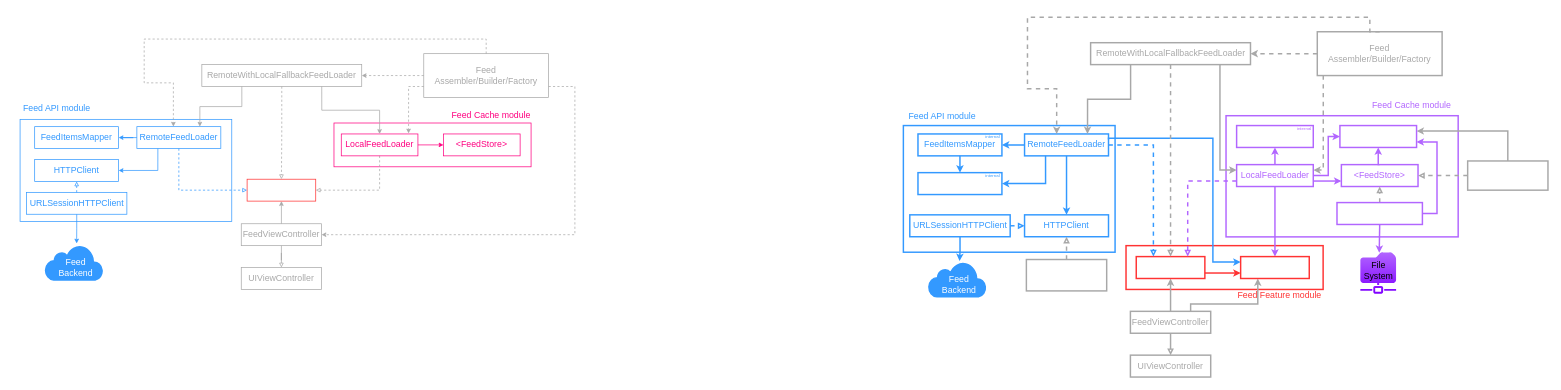
This 1561x390 diagram has some shape labels left out. The box of each missing label's shape, as (x1, y1, x2, y2) in pixels:
<Feed Feature>: (246, 178, 316, 201)
<FeedLoader>: (1135, 256, 1205, 279)
AnyFeedStore Implementation: (1467, 160, 1548, 191)
AnyHTTPClient Implementation: (1025, 258, 1107, 291)
CodableFeedStore: (1336, 201, 1423, 225)
FeedCachePolicy: (1236, 124, 1314, 148)
FeedImage: (1240, 256, 1310, 279)
LocalFeedImage: (1339, 124, 1417, 148)
RemoteFeedItem: (917, 172, 1002, 195)
